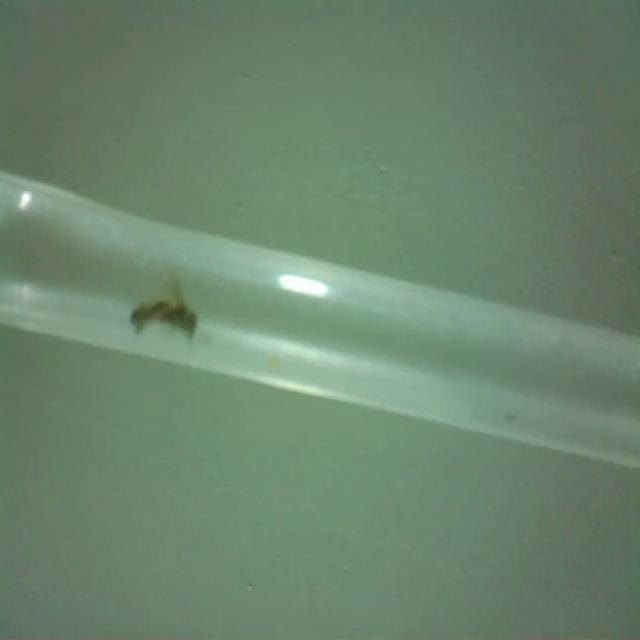Honeybee-Detection: (124, 262, 220, 356)
